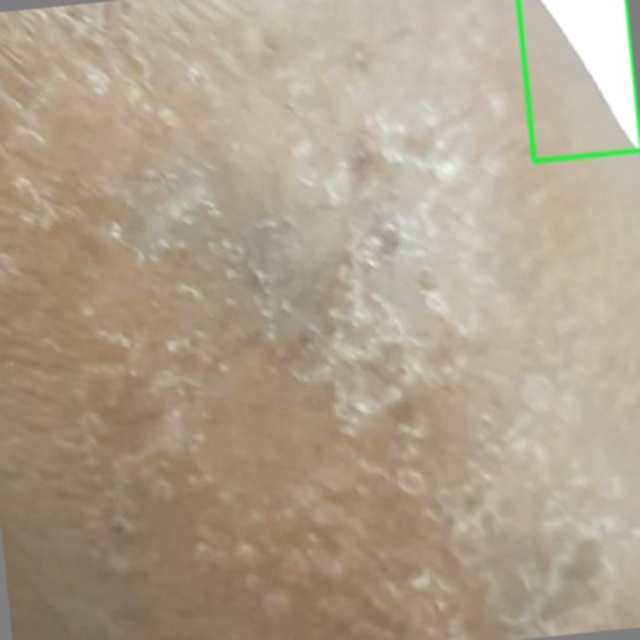Eczema: (518, 0, 639, 160)
